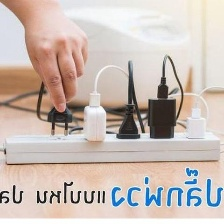three_eye_plug: (2, 128, 222, 167)
